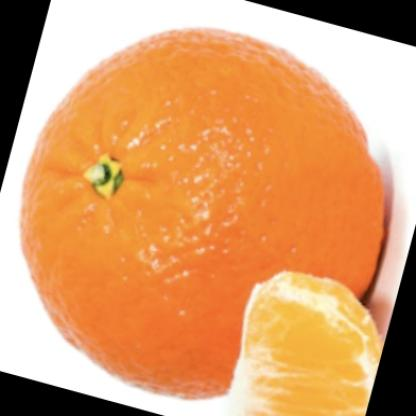fresh: (26, 30, 386, 394)
